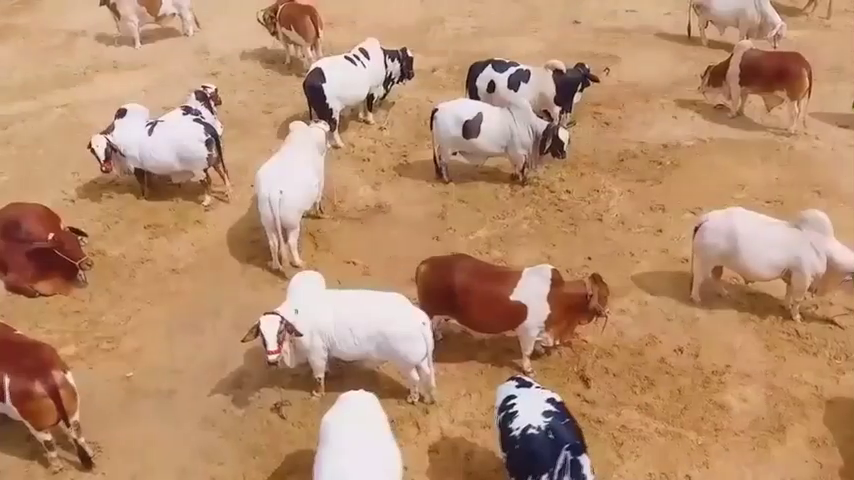bo: (241, 262, 452, 416), (670, 180, 853, 339), (406, 240, 610, 364), (2, 315, 104, 477), (82, 98, 226, 211), (293, 26, 415, 150), (424, 90, 573, 191), (481, 363, 598, 480), (700, 38, 818, 143), (261, 102, 334, 270), (1, 196, 104, 308), (469, 43, 602, 125), (312, 389, 407, 480), (682, 1, 799, 60), (92, 2, 204, 51), (247, 5, 330, 65), (171, 65, 224, 119)
